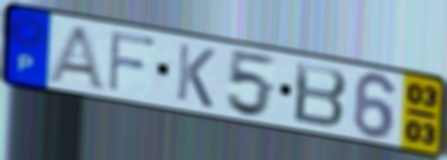5: (226, 46, 280, 119)
6: (350, 70, 400, 141)
A: (43, 25, 110, 94)
B: (290, 59, 350, 131)
F: (105, 28, 160, 95)
K: (173, 40, 218, 111)
